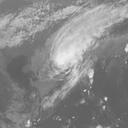cyclone: (49, 40, 91, 83)
